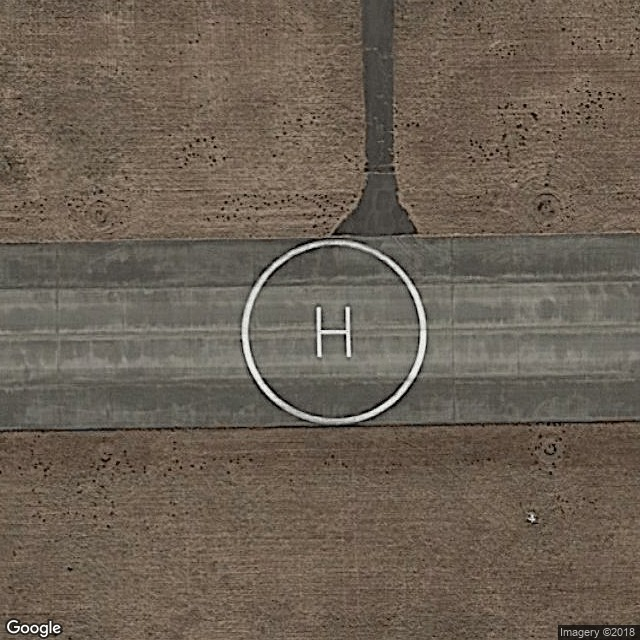heliport: (310, 299, 355, 362)
